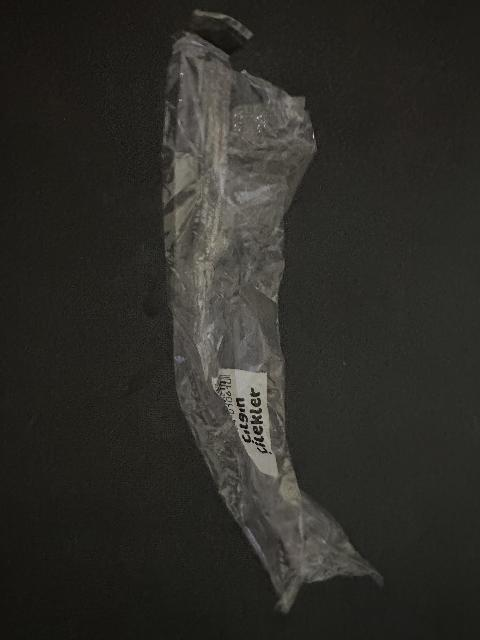Plastik: (162, 6, 386, 608)
